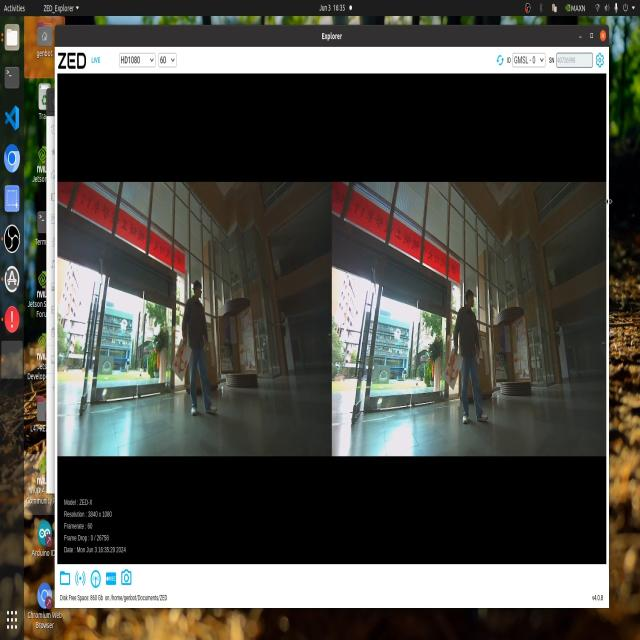red: (449, 356, 465, 403), (173, 348, 188, 379)
